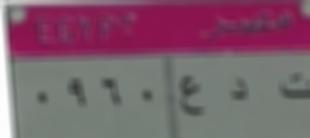0: (34, 83, 57, 113), (138, 82, 159, 110)
6: (98, 74, 123, 112)
9: (65, 75, 90, 111)
ain: (178, 71, 205, 119)
daal: (224, 72, 251, 105)
taa: (272, 68, 310, 103)
